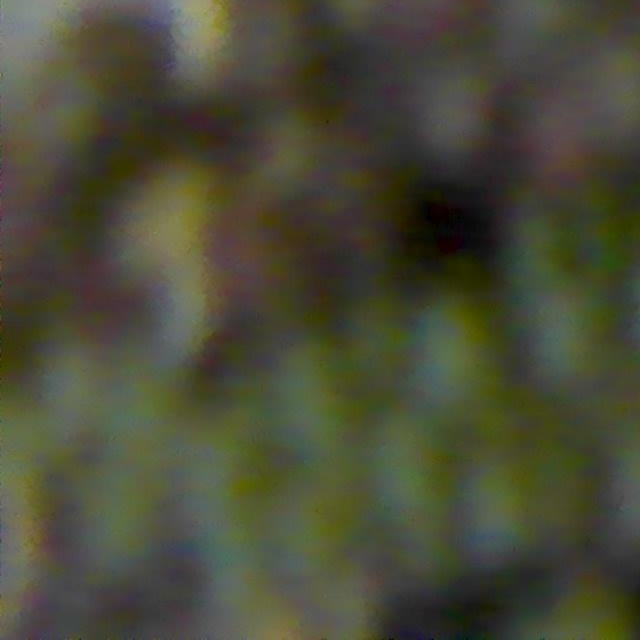SeaGrape: (511, 86, 611, 186), (509, 283, 603, 387), (243, 357, 339, 450), (442, 457, 531, 557), (551, 126, 640, 226), (403, 302, 486, 407), (253, 487, 349, 568), (354, 421, 439, 510)
